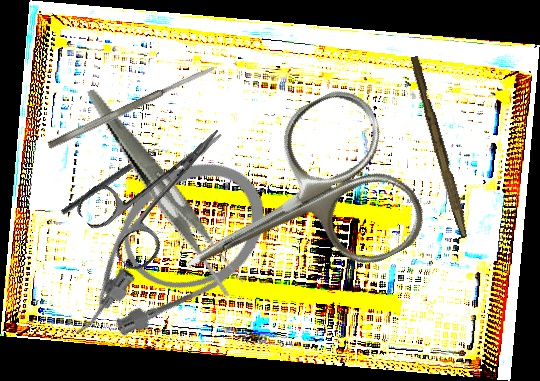Cannula: (30, 134, 291, 369)
Chopper: (60, 139, 170, 223)
Dressing Forceps: (86, 63, 248, 318)
Iris Scissors: (146, 79, 435, 341), (71, 99, 254, 277)
Scalpel Handle: (405, 55, 475, 239)
Spatula Surgical: (46, 63, 217, 151)
